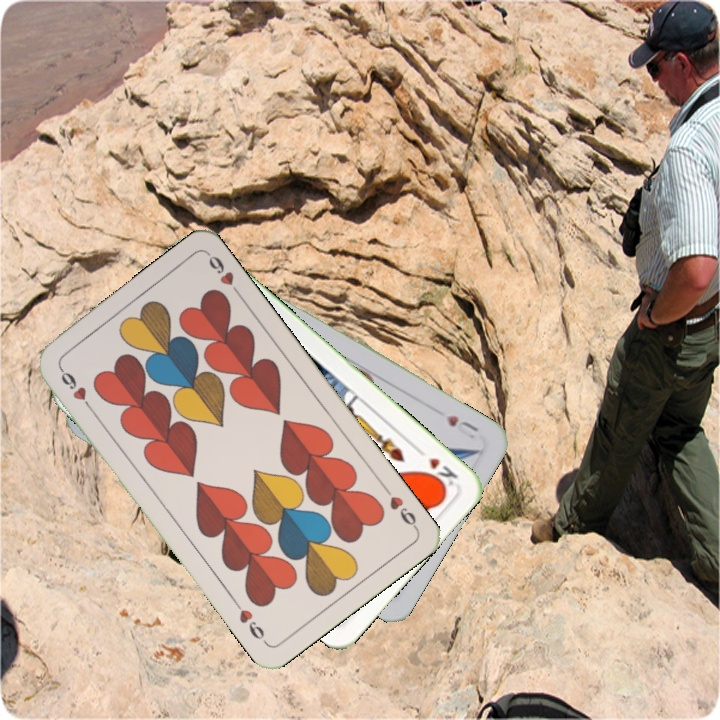H9: (379, 482, 420, 532), (55, 363, 95, 414)
HK: (411, 443, 461, 494)
HU: (441, 411, 481, 442)
